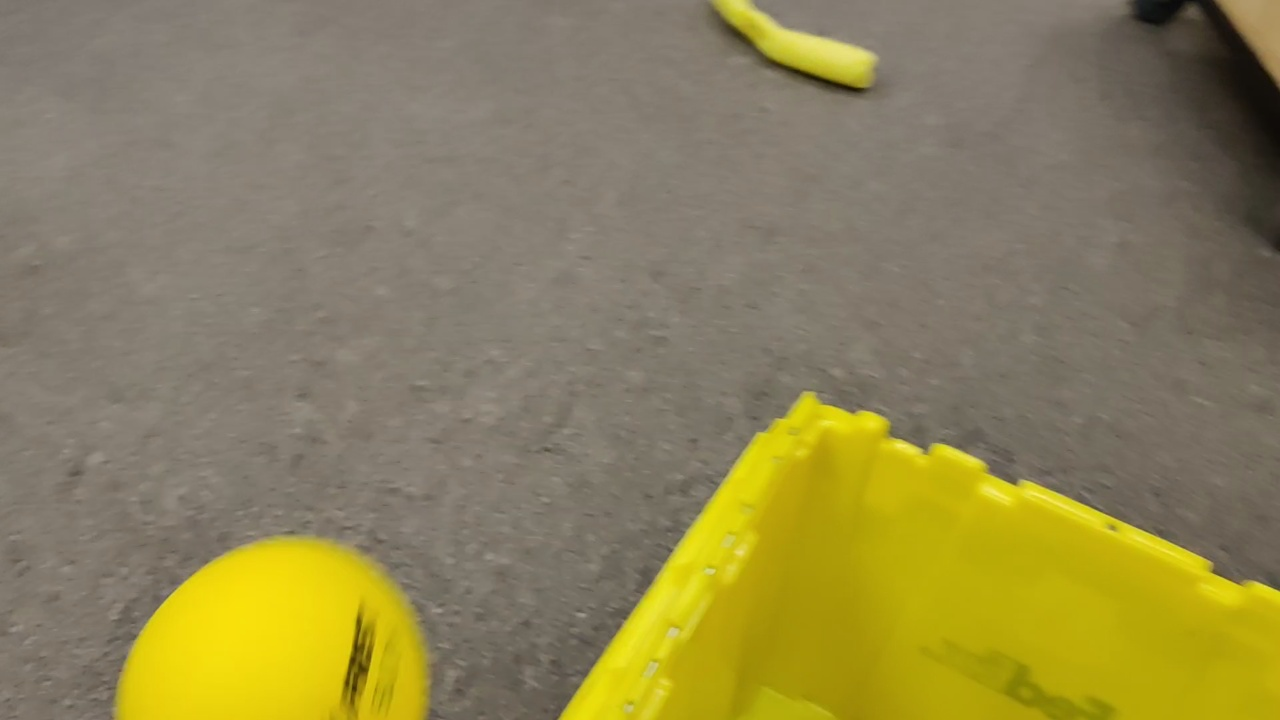Ball: (112, 536, 434, 720)
